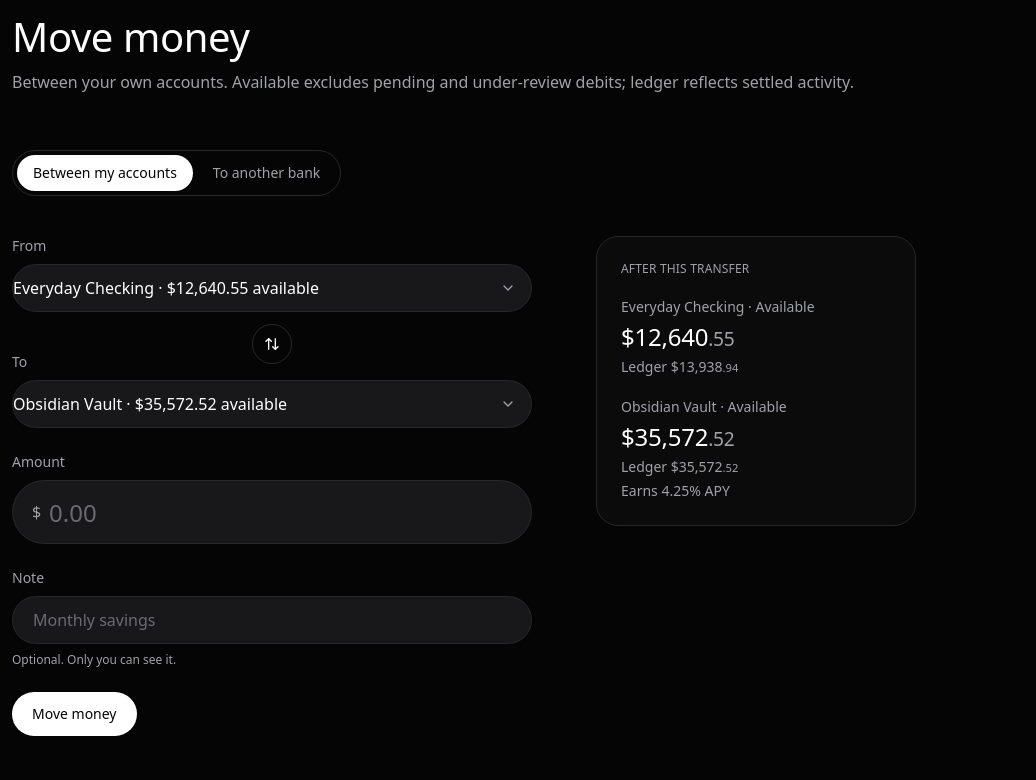
Test: TransferPage summary › swaps source and destination
Click the button named "Swap accounts" at (272, 344), box [252,324,292,364]
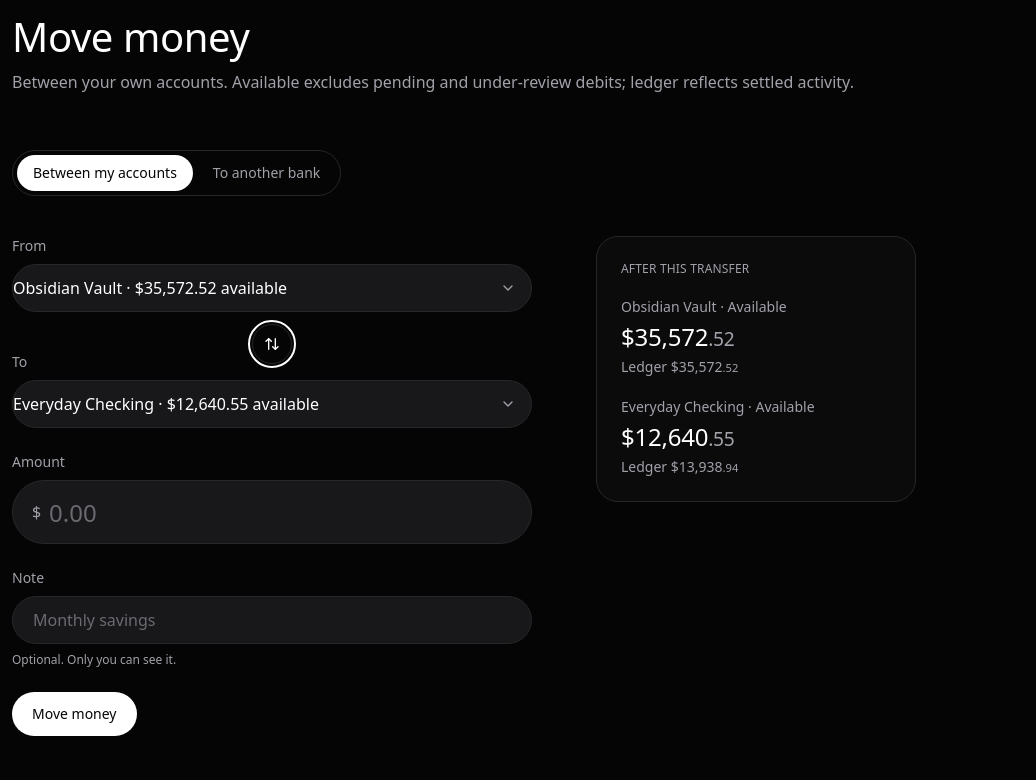
expect the dropdown labelled "From" shows "Obsidian Vault · $35,572.52 available": met, box [12,264,532,312]
expect the dropdown labelled "To" shows "Everyday Checking · $12,640.55 available": met, box [12,380,532,428]
expect the text "Earns 4.25% APY" is gone: met
